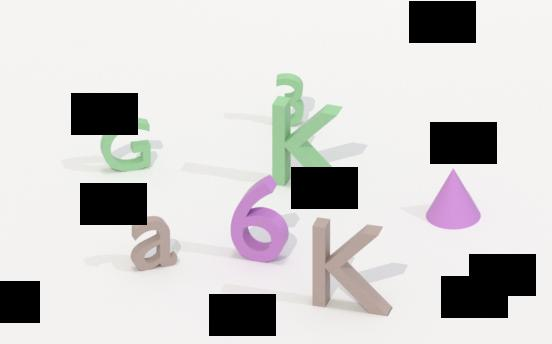3: (267, 69, 307, 129)
6: (228, 171, 290, 269)
G-hoa: (98, 111, 154, 176)
a: (129, 215, 180, 275)
k: (306, 210, 395, 319), (269, 91, 354, 200)
non: (423, 164, 484, 235)
